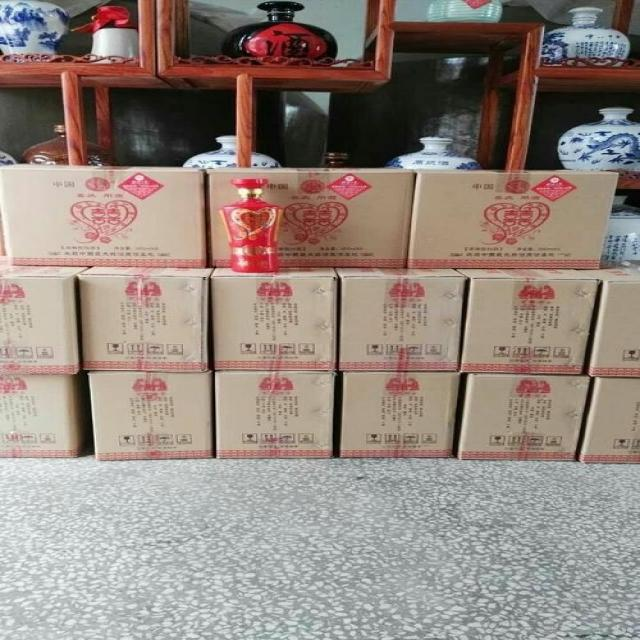box: (0, 163, 210, 268), (408, 170, 620, 270), (211, 168, 416, 269), (453, 270, 601, 376), (77, 268, 211, 371), (210, 268, 340, 372), (338, 269, 466, 373), (458, 373, 590, 462), (89, 372, 217, 460), (210, 372, 333, 458), (334, 374, 461, 457), (0, 267, 88, 376), (0, 374, 91, 458), (578, 268, 639, 376), (576, 377, 639, 464)
